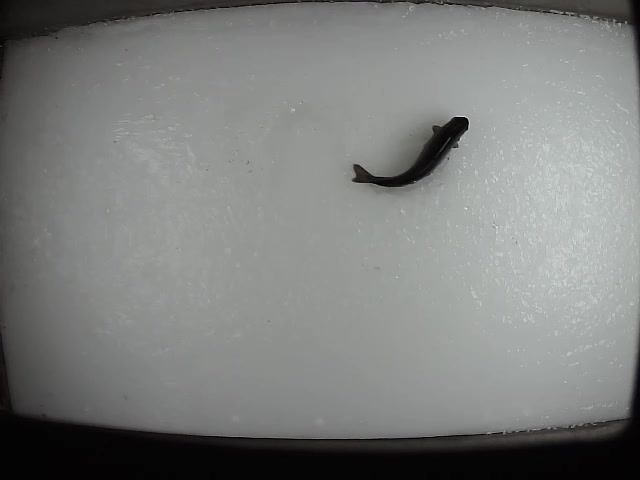Fish: (352, 115, 468, 187)
